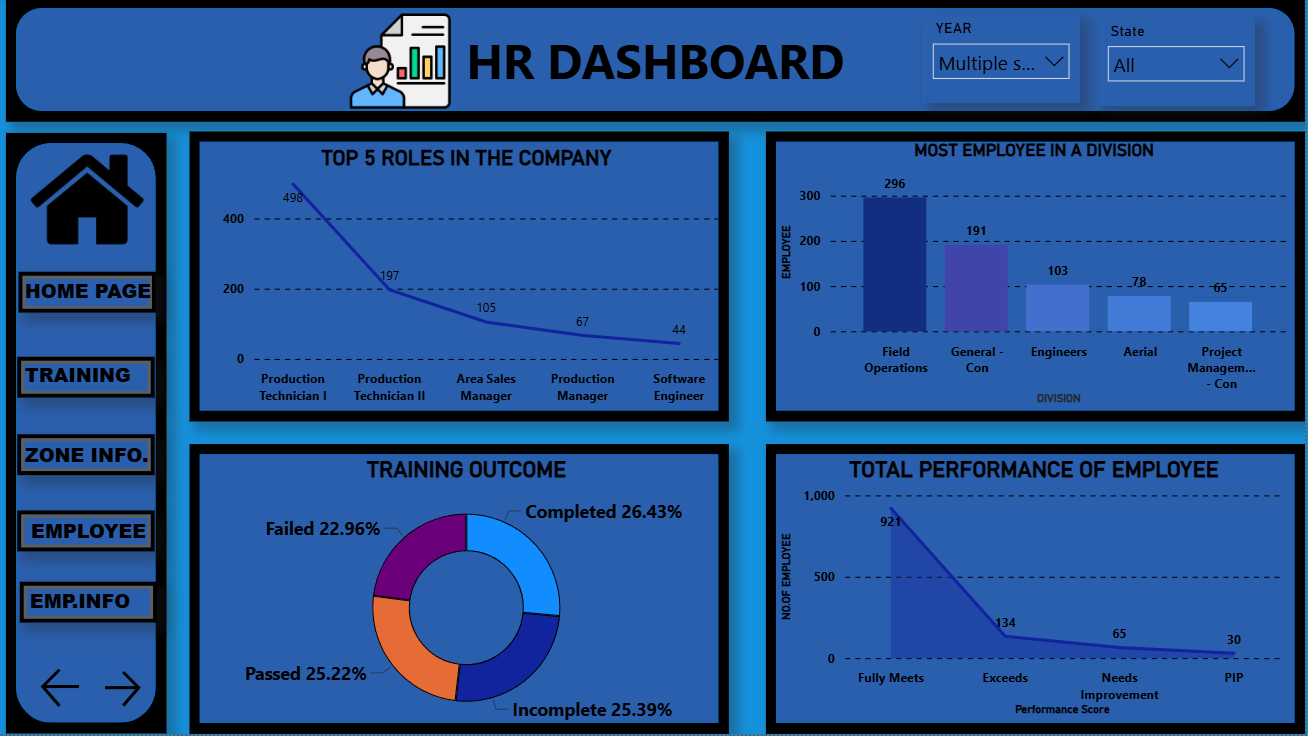

Layout of this report page (visuals, bound fields, positions):
{"tool":"powerbi","page":{"name":"EMPLOYEE","canvas":[1280,720],"ordinal":3},"visuals":[{"type":"shape","box":[9.3,0,1270.7,120.8],"z":0},{"type":"image","box":[315.8,8.5,160,104.8],"z":1000},{"type":"shape","box":[9.8,132.1,156.5,587],"z":2000},{"type":"shape","box":[190,131.4,527.1,282.9],"z":3000},{"type":"shape","box":[190,437.1,527.1,282.9],"z":4000},{"type":"shape","box":[752.9,437.1,527.1,282.9],"z":5000},{"type":"shape","box":[752.9,131.4,527.1,282.9],"z":6000},{"type":"lineChart","title":"TOP 5 ROLES IN THE COMPANY","fields":{"Category":["HR DATA.Title"],"Y":["CountNonNull(HR DATA.Employee ID)"]},"box":[202.9,144.3,514.3,260],"z":7000},{"type":"lineStackedColumnComboChart","title":"MOST EMPLOYEE IN A DIVISION","fields":{"Category":["HR DATA.Division"],"Y":["CountNonNull(HR DATA.Employee ID)"]},"box":[763,138.6,505,264.8],"z":8000},{"type":"donutChart","title":"TRAINING OUTCOME","fields":{"Category":["HR DATA.Training Outcome"],"Y":["CountNonNull(HR DATA.Employee ID)"]},"box":[203.1,448.7,514.6,271.7],"z":9000},{"type":"areaChart","title":"TOTAL PERFORMANCE OF EMPLOYEE ","fields":{"Category":["HR DATA.Performance Score"],"Y":["CountNonNull(HR DATA.Employee ID)"]},"box":[763,448.7,505,258],"z":10000},{"type":"image","box":[21.4,141.4,134.3,110],"z":11000},{"type":"actionButton","box":[100,652.9,55.7,45.7],"z":12000},{"type":"actionButton","box":[38.6,650,50,48.6],"z":13000},{"type":"actionButton","title":"TRAINING","box":[20.8,351,134.5,40.4],"z":14000},{"type":"actionButton","title":"TRAINING","box":[22,267.8,134.5,40.4],"z":15000},{"type":"actionButton","title":"TRAINING","box":[20.8,426.8,134.5,40.4],"z":16000},{"type":"actionButton","title":"TRAINING","box":[20.8,501.4,134.5,40.4],"z":17000},{"type":"actionButton","title":"TRAINING","box":[23.2,571.1,134.5,40.4],"z":18000},{"type":"textbox","title":"HOME PAGE","box":[23.2,272.7,134.5,28.1],"z":19000},{"type":"textbox","title":"TRAINING","box":[23.2,354.6,113.7,30.6],"z":20000},{"type":"textbox","title":"ZONE INFO.","box":[23.2,432.9,134.5,28.1],"z":21000},{"type":"textbox","title":"EMPLOYEE","box":[29.3,507.5,124.7,28.1],"z":22000},{"type":"textbox","title":"EMP.INFO","box":[28.1,576,121.1,31.8],"z":23000},{"type":"slicer","fields":{"Values":["HR DATA.TRAINING YEAR"]},"box":[905.7,15.7,154.3,87.1],"z":24000},{"type":"slicer","fields":{"Values":["HR DATA.State"]},"box":[1077.1,18.6,154.3,87.1],"z":25000}]}

Visuals, with their boxes in screenshot pixels (x1, y1, x2, y2), scaled from the page's 1280x720 canvas onto the 1308x736 screenshot:
shape: bbox=(10, 0, 1307, 123)
image: bbox=(323, 9, 486, 116)
shape: bbox=(10, 135, 170, 735)
shape: bbox=(194, 134, 733, 424)
shape: bbox=(194, 447, 733, 735)
shape: bbox=(769, 447, 1307, 735)
shape: bbox=(769, 134, 1307, 424)
"TOP 5 ROLES IN THE COMPANY" lineChart: bbox=(207, 148, 733, 413)
"MOST EMPLOYEE IN A DIVISION" lineStackedColumnComboChart: bbox=(780, 142, 1296, 412)
"TRAINING OUTCOME" donutChart: bbox=(208, 459, 733, 735)
"TOTAL PERFORMANCE OF EMPLOYEE " areaChart: bbox=(780, 459, 1296, 722)
image: bbox=(22, 145, 159, 257)
actionButton: bbox=(102, 667, 159, 714)
actionButton: bbox=(39, 664, 91, 714)
"TRAINING" actionButton: bbox=(21, 359, 159, 400)
"TRAINING" actionButton: bbox=(22, 274, 160, 315)
"TRAINING" actionButton: bbox=(21, 436, 159, 478)
"TRAINING" actionButton: bbox=(21, 513, 159, 554)
"TRAINING" actionButton: bbox=(24, 584, 161, 625)
"HOME PAGE" textbox: bbox=(24, 279, 161, 307)
"TRAINING" textbox: bbox=(24, 362, 140, 394)
"ZONE INFO." textbox: bbox=(24, 443, 161, 471)
"EMPLOYEE" textbox: bbox=(30, 519, 157, 548)
"EMP.INFO" textbox: bbox=(29, 589, 152, 621)
slicer - HR DATA.TRAINING YEAR: bbox=(926, 16, 1083, 105)
slicer - HR DATA.State: bbox=(1101, 19, 1258, 108)
